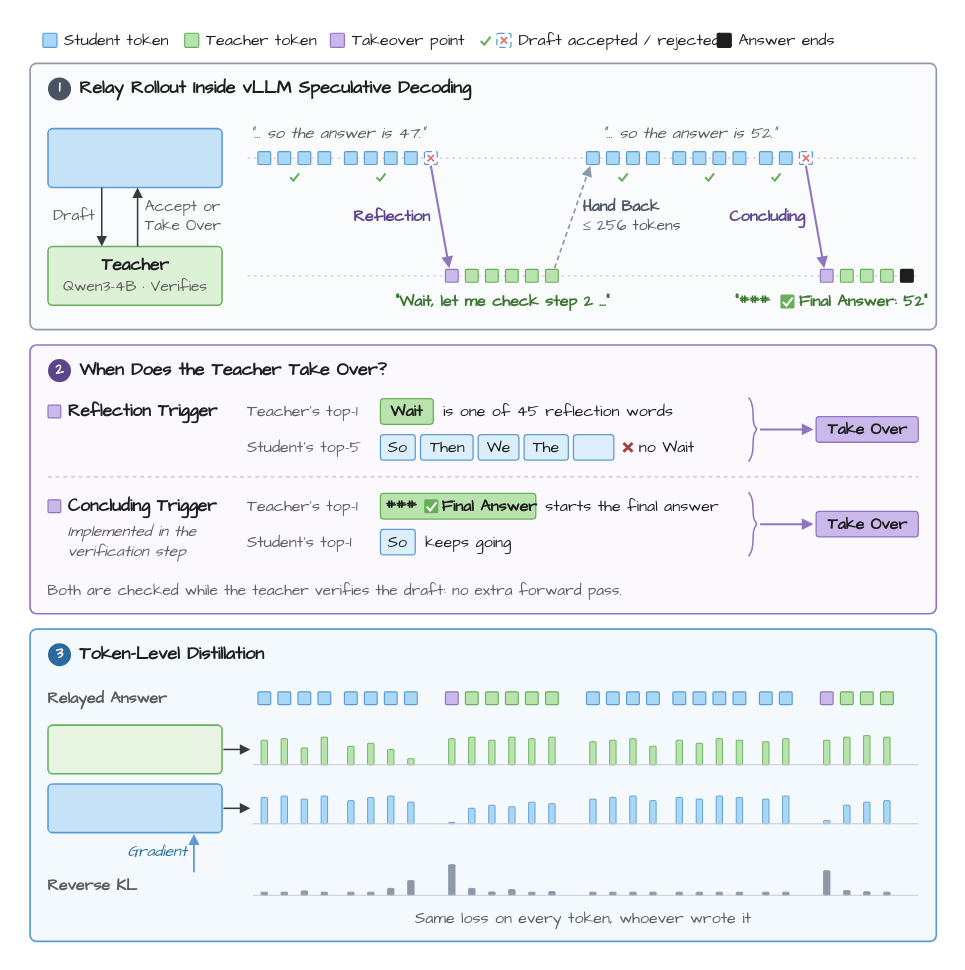
The diagram is 965 pixels wide and 970 high, and some of its shapes have lost their labels. The shapes that lost their labels are listed below. From the top down, each one's centre as x and y in pixels, then its label:
At point (134, 157): "Student Qwen3-1.7B · Drafts".
At point (593, 446): "Let".
At point (134, 749): "Teacher Scorer Separate GPU".
At point (134, 808): "Student Being trained".
